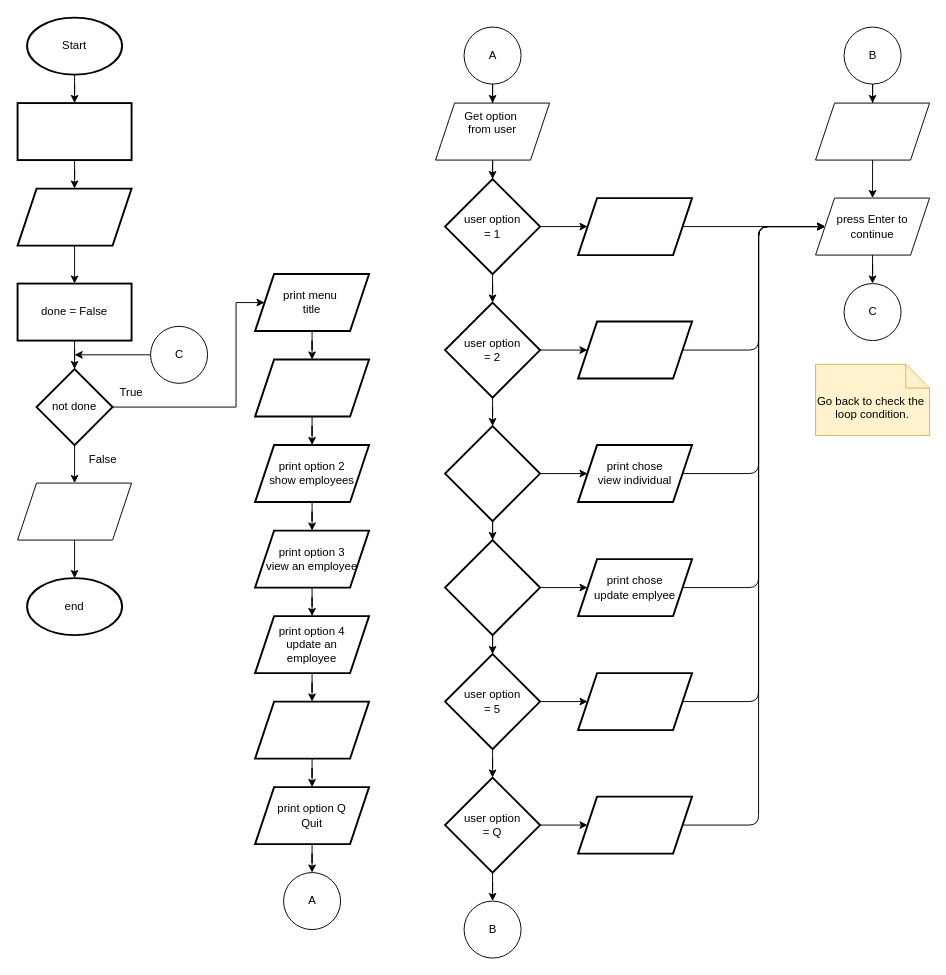
Image size: 946x975. Some labels were removed from this diagram. Each missing label, with the centre of its shape:
"Define constant CONSOLE_WIDTH" belongs at [74,131].
"print chose add employee" belongs at [635,226].
"print chose delete employee" belongs at [635,701].
"print chose quit program" belongs at [635,824].
"print chose view all" belongs at [635,349].
"print invalid option" belongs at [872,131].
"print option 1 add employee" belongs at [312,387].
"print option 5 delete an employee" belongs at [312,729].
"print Program Compete" belongs at [74,511].
"print program title" belongs at [74,216].
"user option = 3" belongs at [492,473].
"user option = 4" belongs at [492,587].
